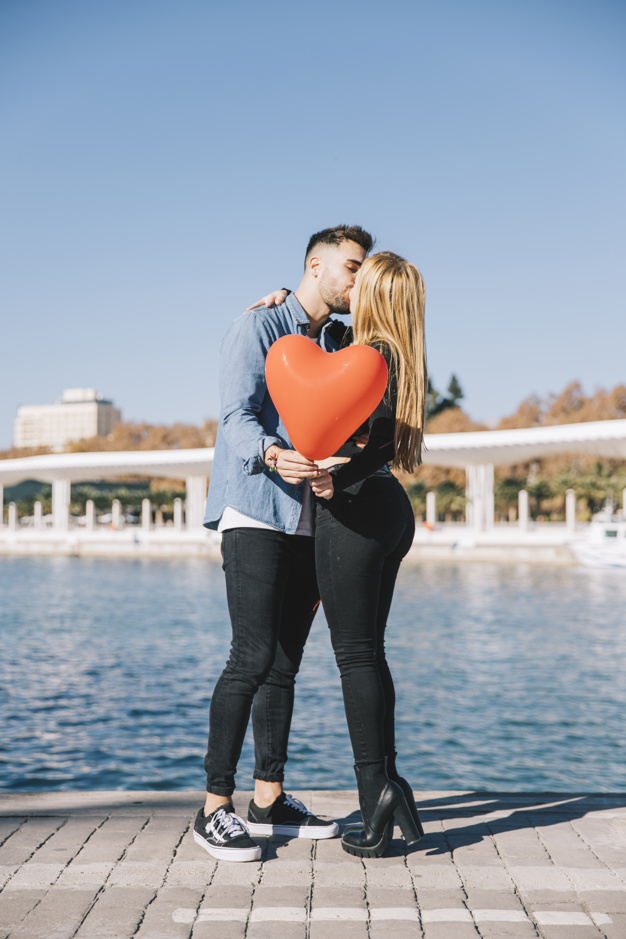person: (255, 210, 373, 446)
